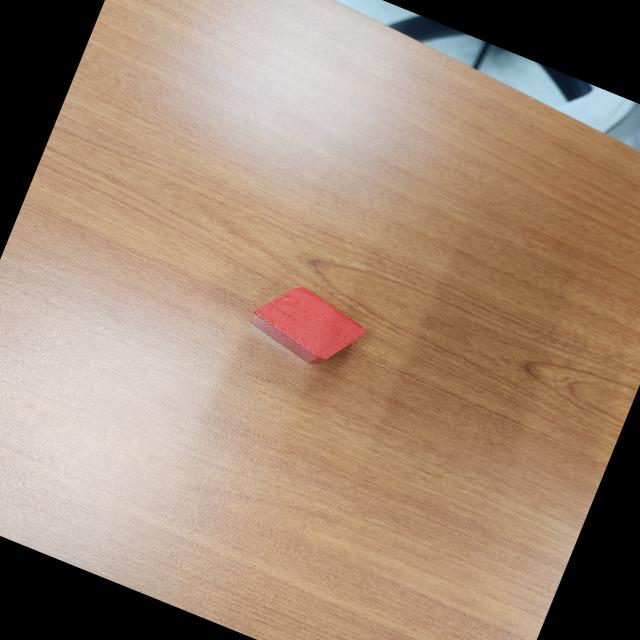red: (240, 273, 372, 379)
